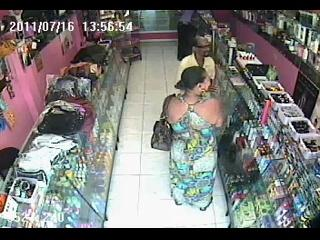Normal: (161, 66, 228, 211), (175, 36, 218, 90), (150, 117, 172, 151)
